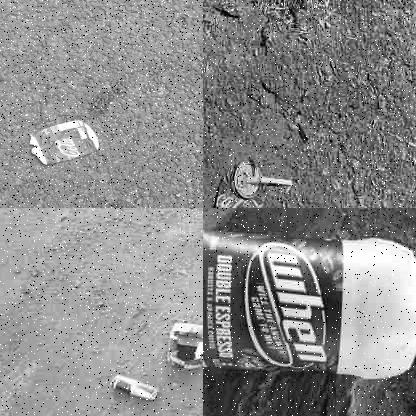cardboard: (167, 321, 202, 377)
metal: (20, 122, 104, 164), (209, 162, 264, 207), (109, 374, 160, 402)
plastic: (203, 219, 415, 383)
